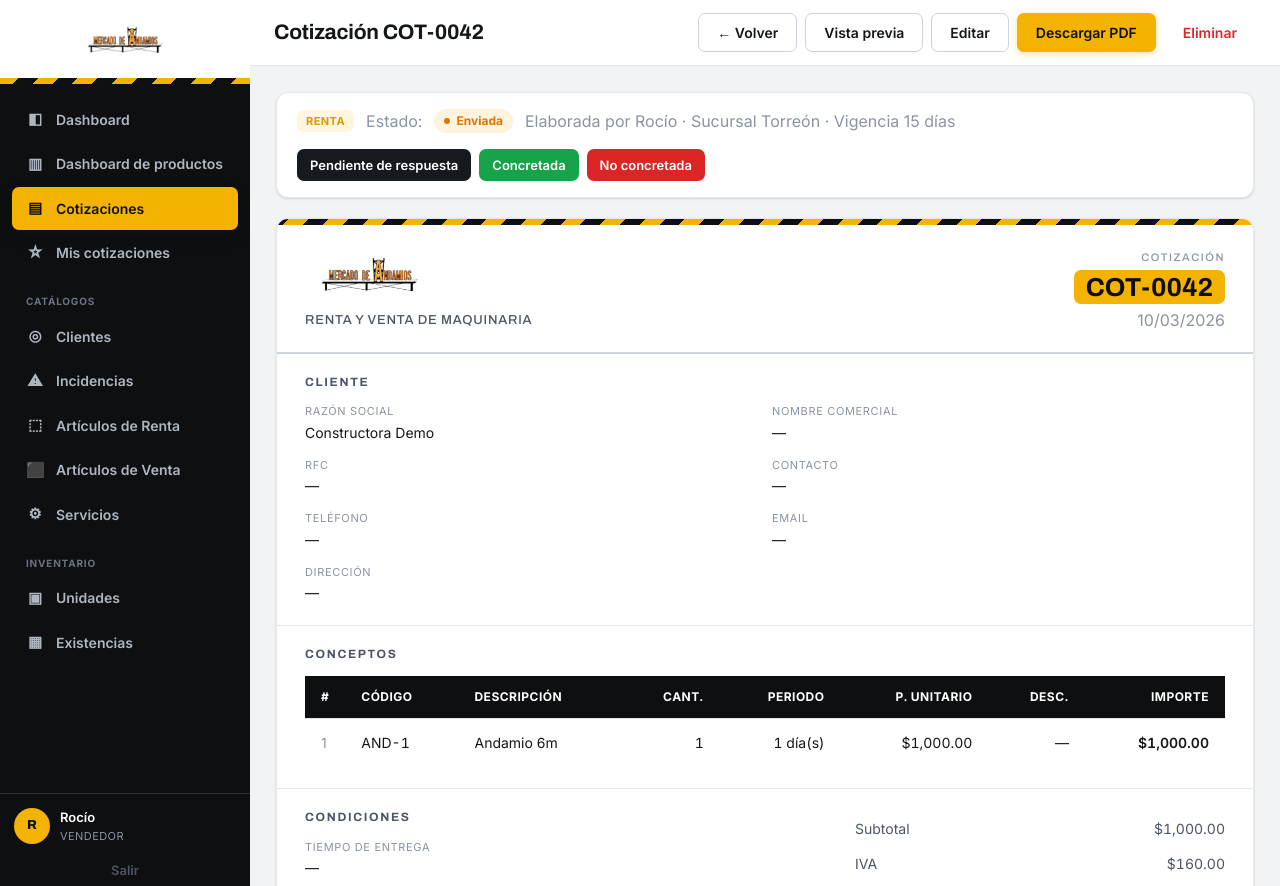
Test case: CotizacionDetalle — marcar Concretada › capturando el número se habilita Confirmar y se guarda con ese número
Click the button "Concretada": [529, 165] box top-left (479, 149), bottom-right (579, 181)
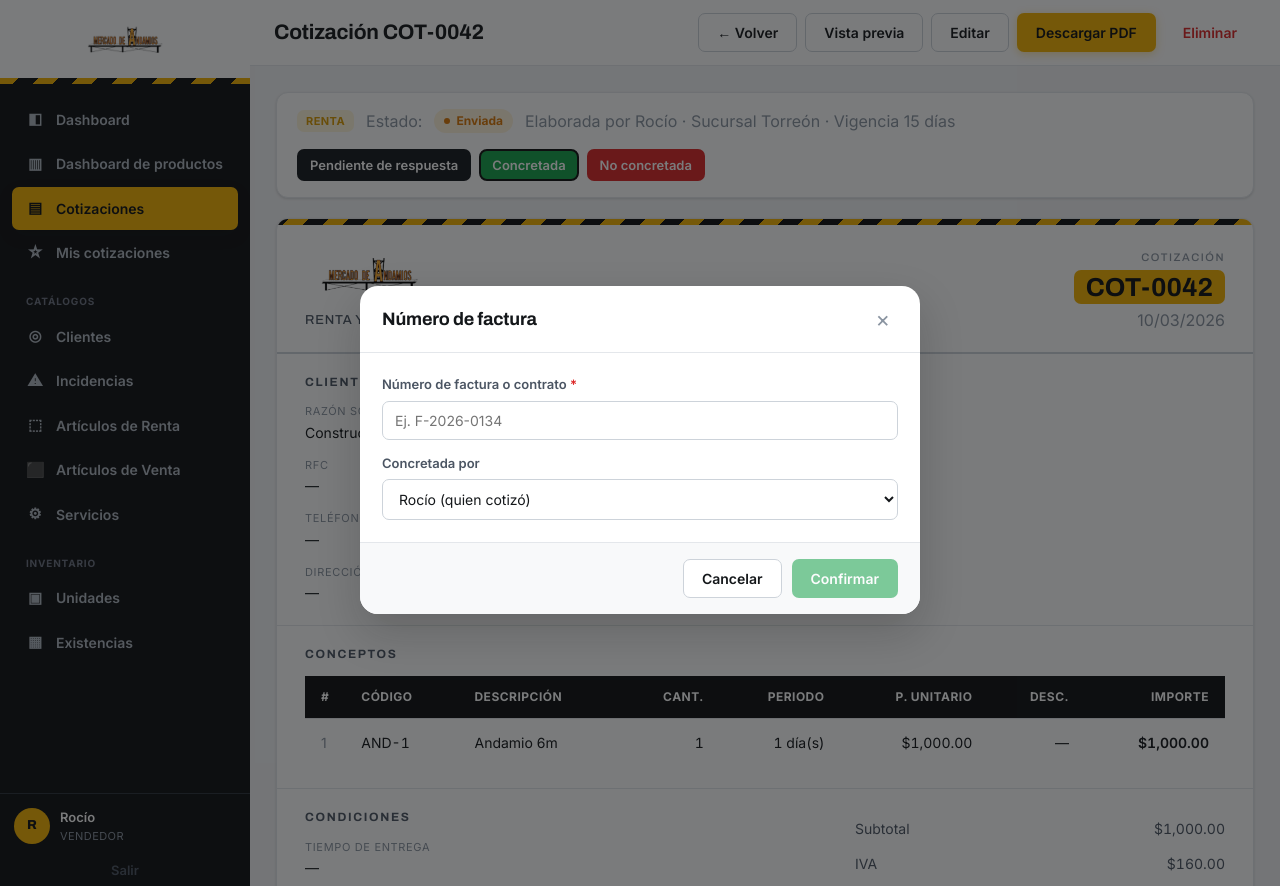
In the field labelled "Número de factura o contrato *": [640, 420] box top-left (382, 400), bottom-right (898, 440), type "F-2026-0134"
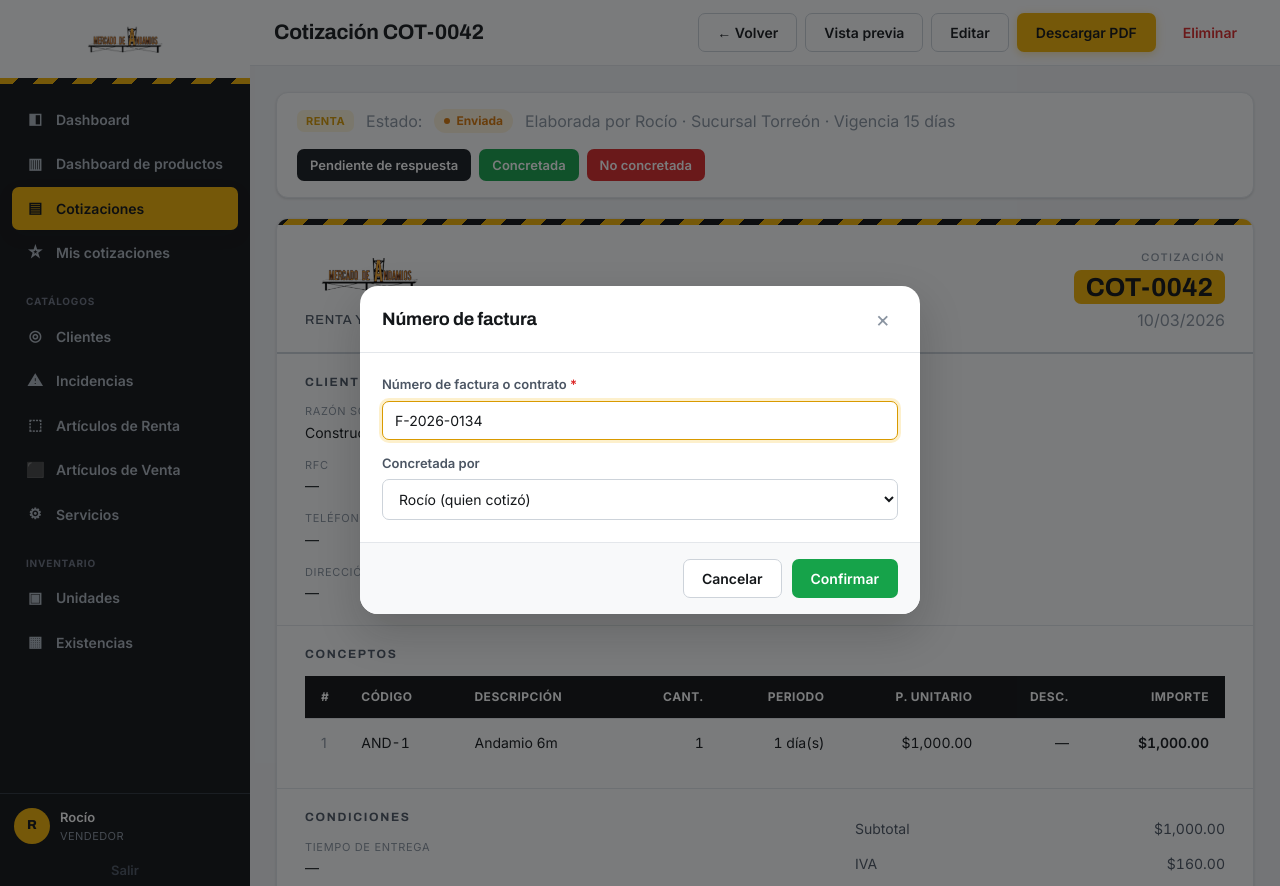
Check: the button "Confirmar" is enabled
Click the button "Confirmar": [845, 578] box top-left (792, 559), bottom-right (898, 598)
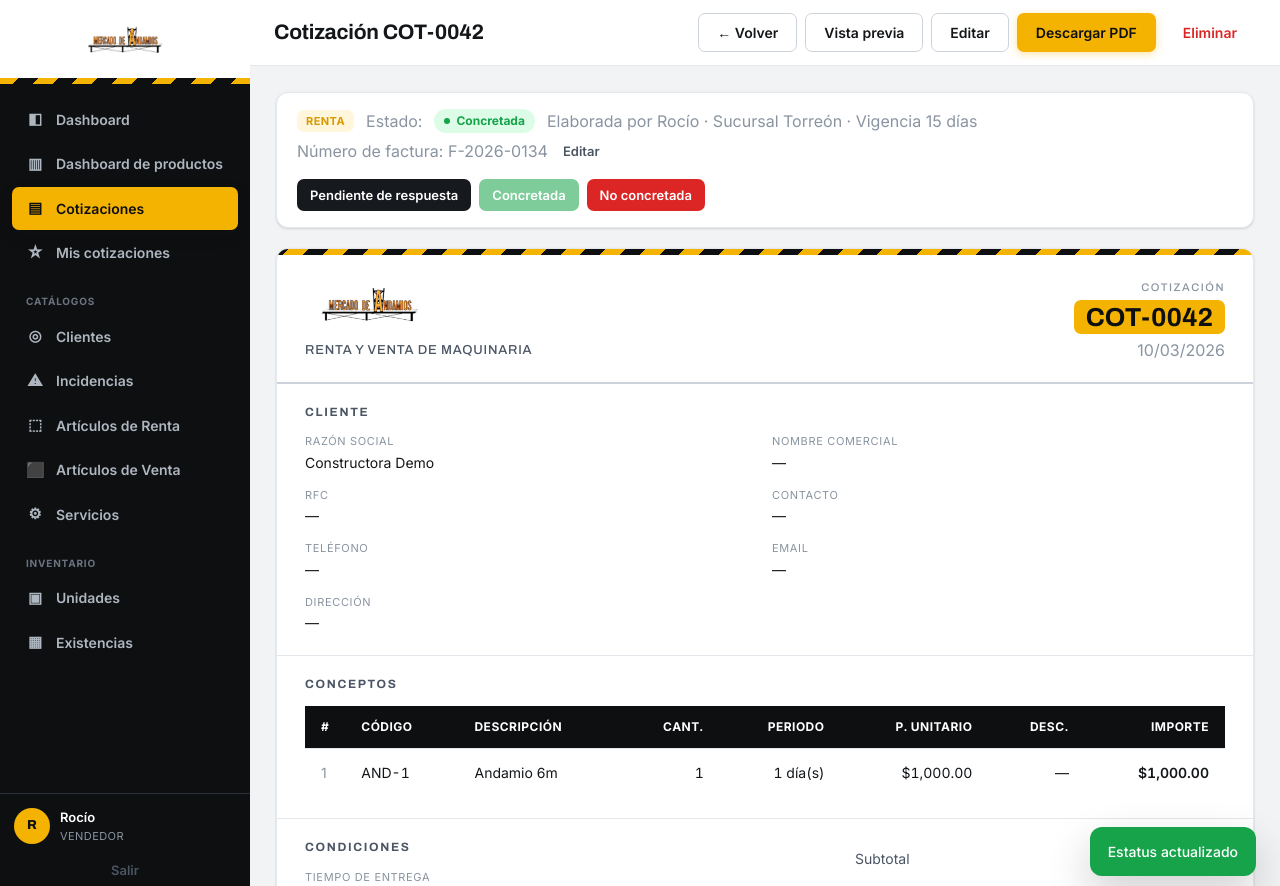
Check: the button "Editar" next to "F-2026-0134" is shown, box top-left (554, 141), bottom-right (609, 161)
Check: the element "Editar" shows "Número de factura: F-2026-0134", box top-left (297, 141), bottom-right (609, 161)
